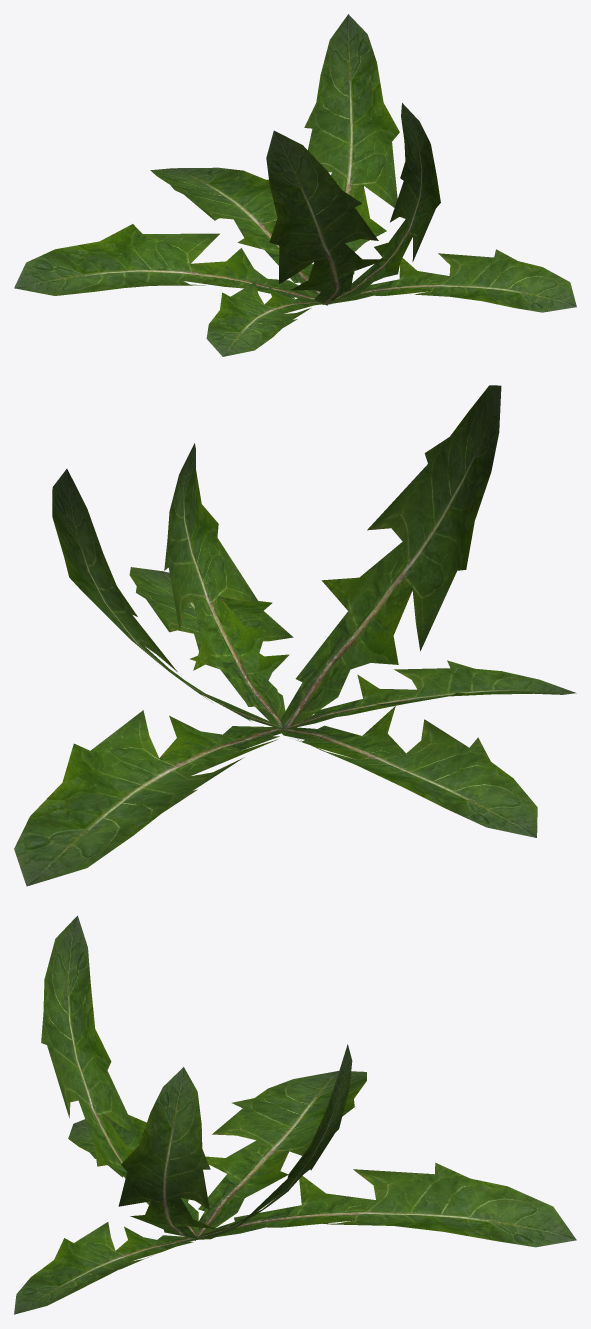
The model's file is weed-transformed.glb.
3 renders of one model, top to bottom at view 1: azimuth 30°, elevation 25°; view 2: azimuth 150°, elevation 25°; view 3: azimuth 270°, elevation 25°, orthographic. The views are drawn at different scales.
Visible parts, largest first — view 1: Dandelion; view 2: Dandelion; view 3: Dandelion.
Part boxes in pixels (<box>): Dandelion: <box>14,14,576,356</box>; Dandelion: <box>14,385,576,886</box>; Dandelion: <box>14,915,576,1314</box>.
Bounding box in the file's own units: 7.24 × 3.86 × 7.4.
1 material, 1 textured.
